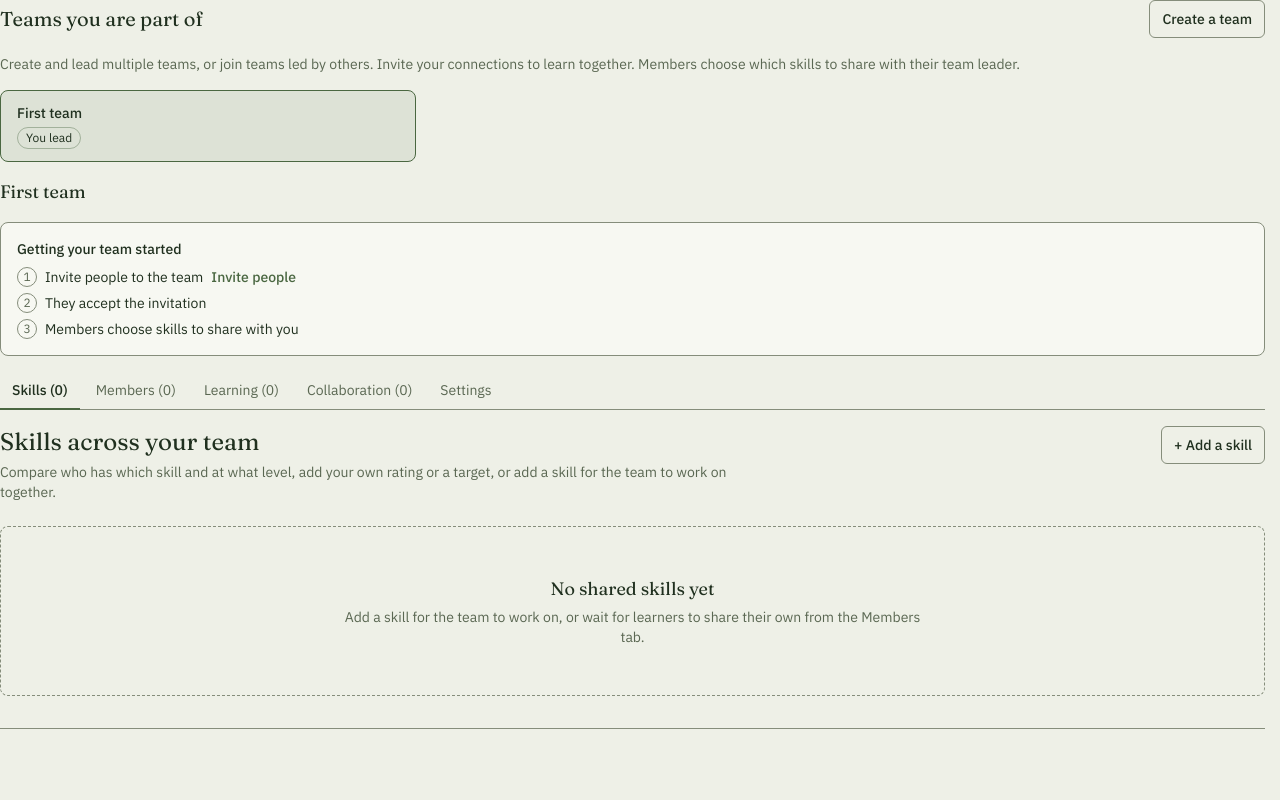
Connections teams › keeps selection and displays failed invitations for retry
Expected: the heading "First team" is shown, [0,180,86,203]
Click the tab "Members (0)" at (136, 391), box [84,372,188,410]
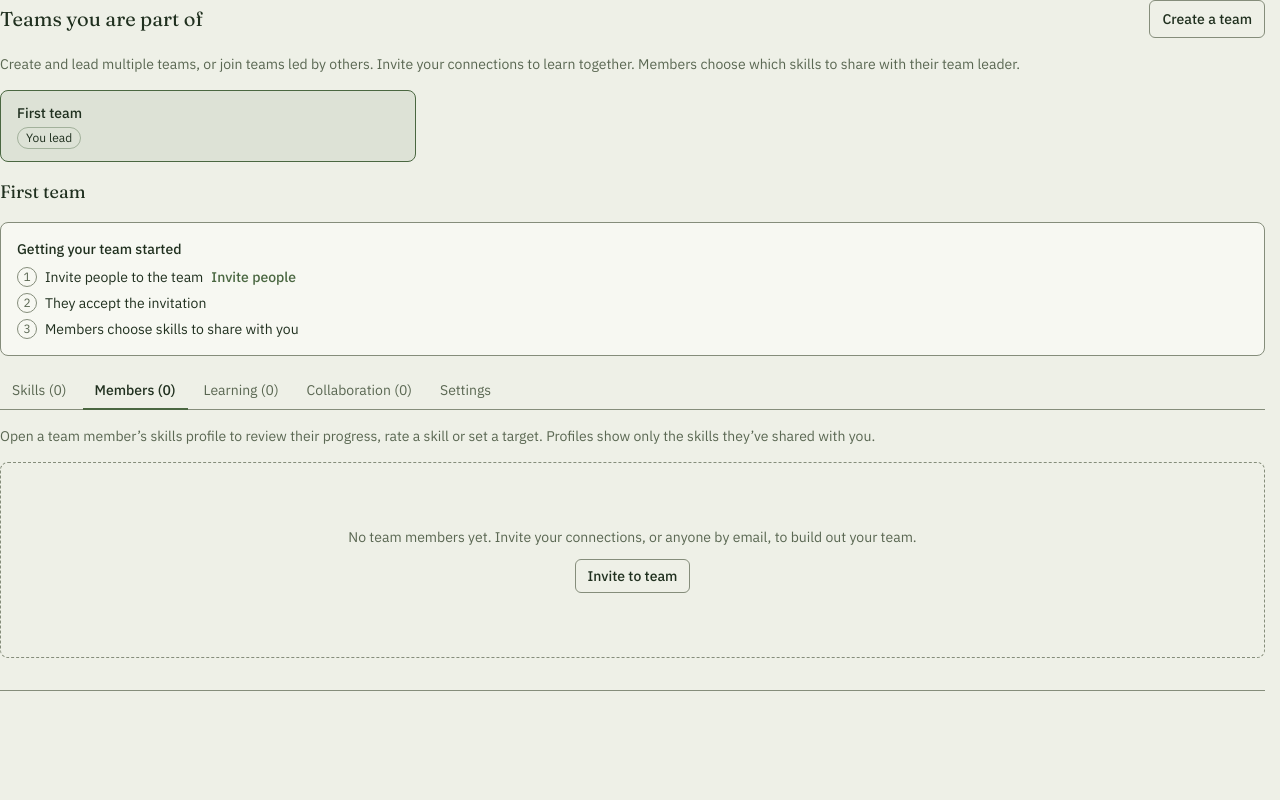
Expected: the tab "Members (0)" is selected, [82,372,188,410]
Click the button "Invite to team" at (632, 576), box [574,559,690,593]
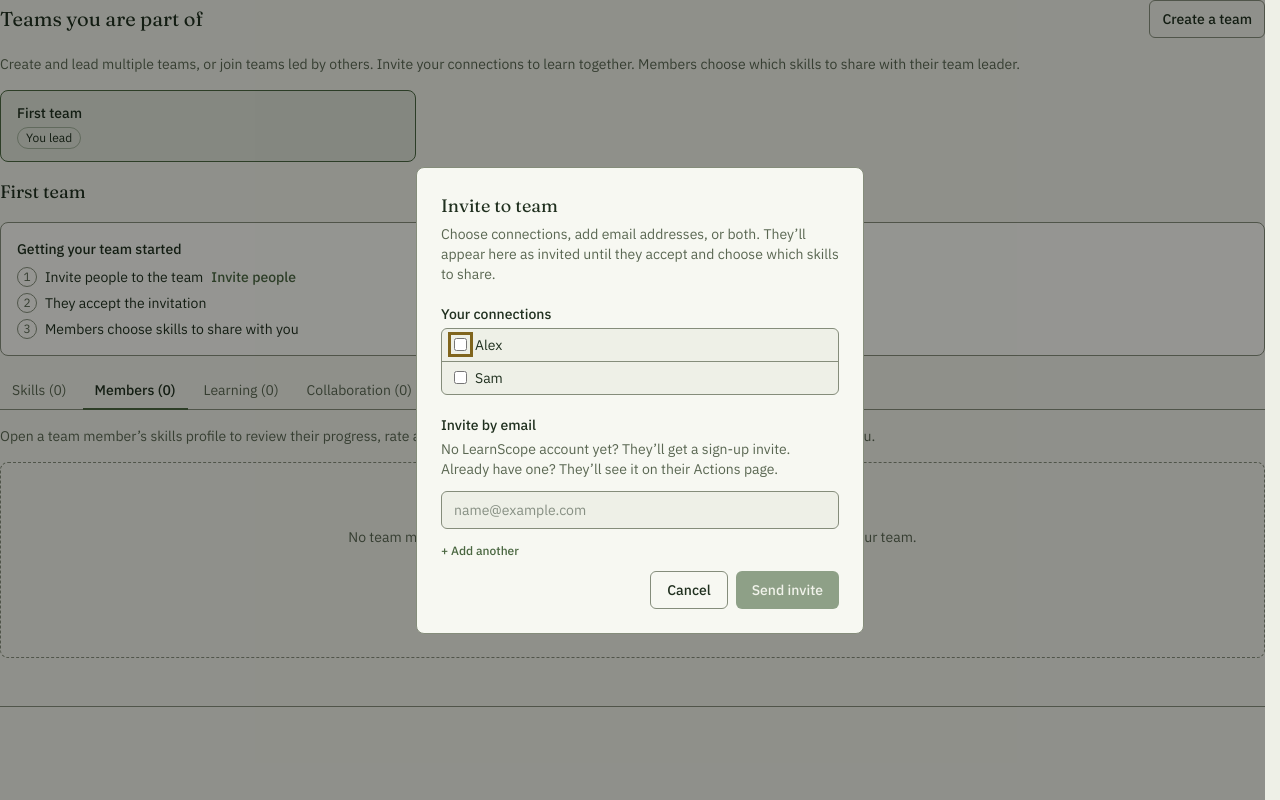
Click the checkbox labelled "Alex" at (460, 344), box [454,338,467,351]
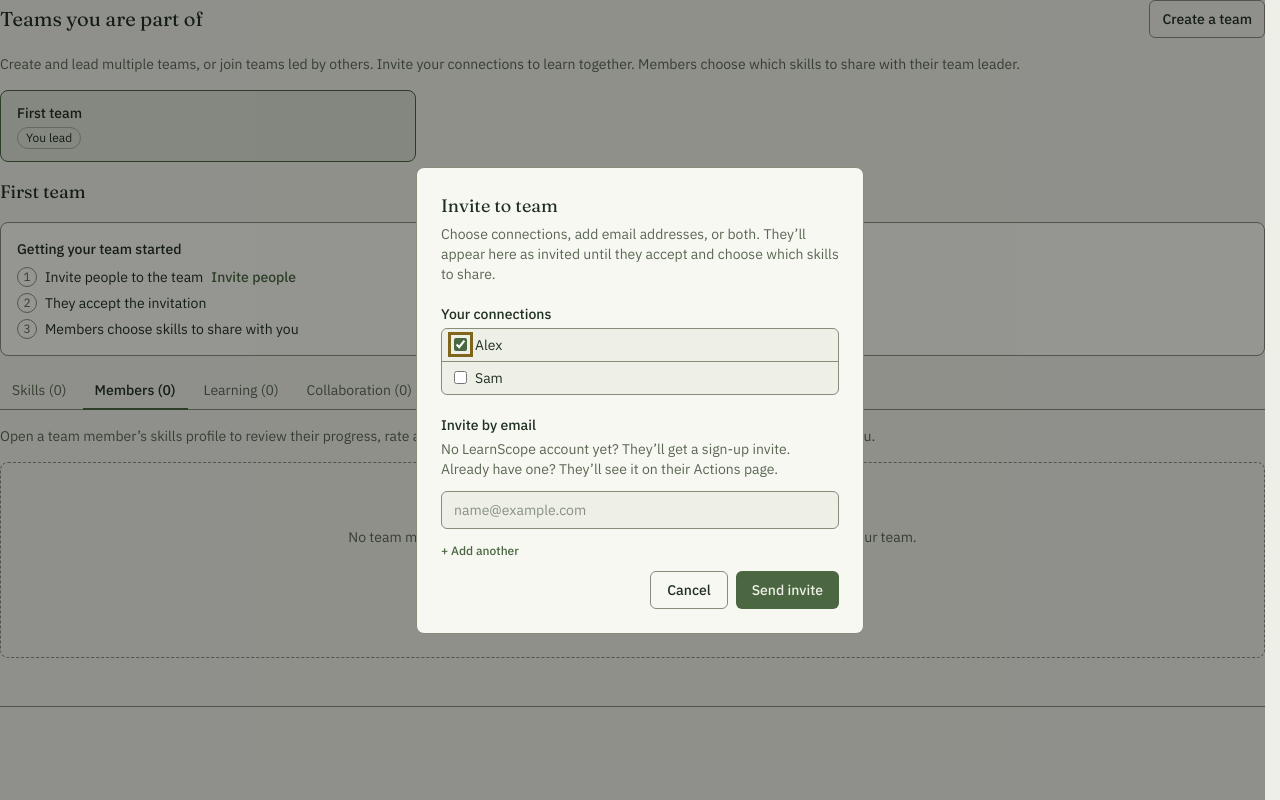
Click the button "Send invite" at (787, 590), box [736,570,839,608]
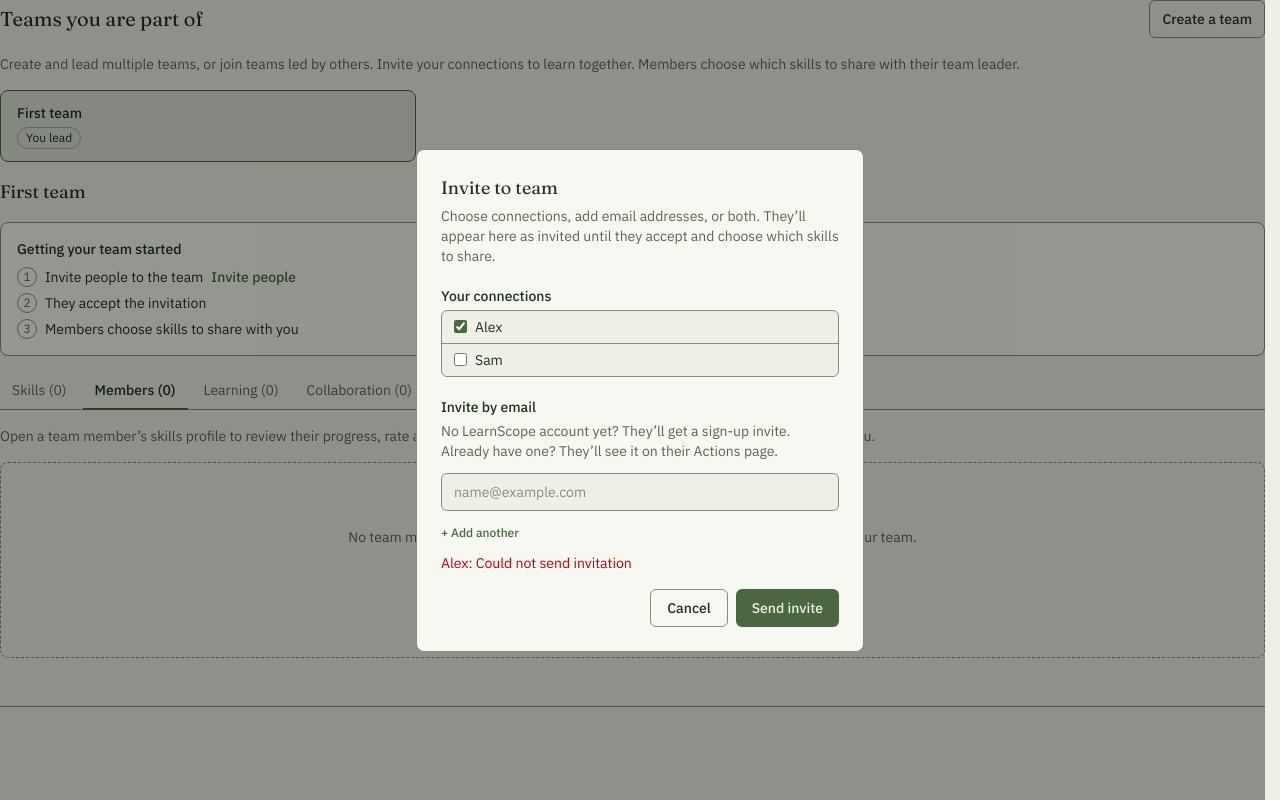
Expected: the checkbox labelled "Alex" is checked, [454,320,467,333]
Expected: the message reads "Alex: Could not send invitation", [441,554,632,572]
